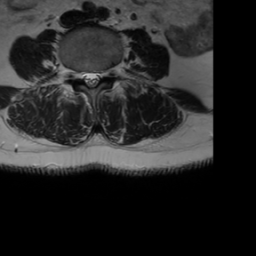CCS_stenosis: (87, 65, 94, 94)
LFS_normal: (102, 59, 111, 85)
LLS_normal: (94, 64, 102, 87)
RFS_normal: (72, 61, 80, 84)
RLS_normal: (80, 65, 87, 87)
